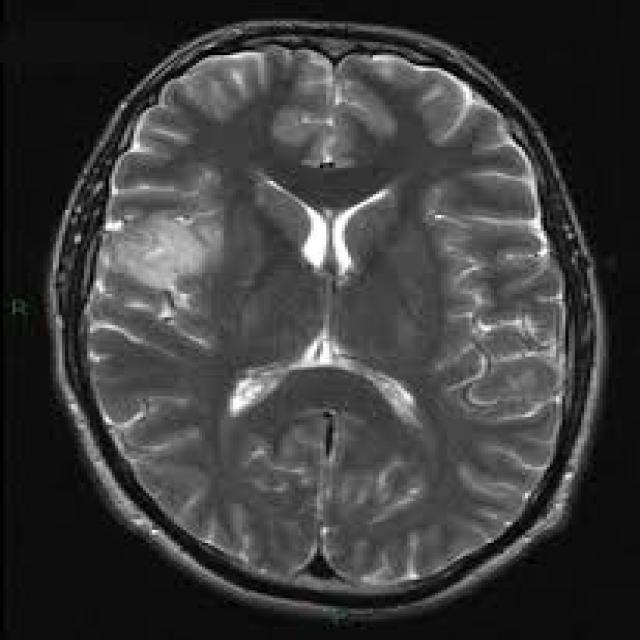tumor: (102, 194, 236, 310)
